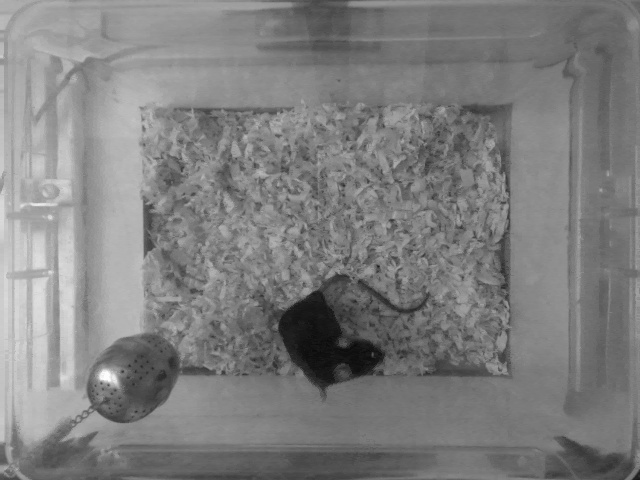mice: (277, 273, 431, 400)
